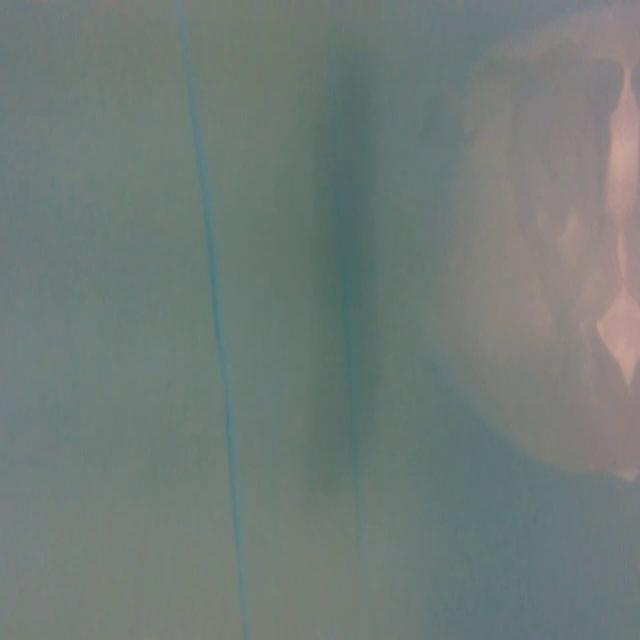plastic bags: (429, 7, 640, 474)
